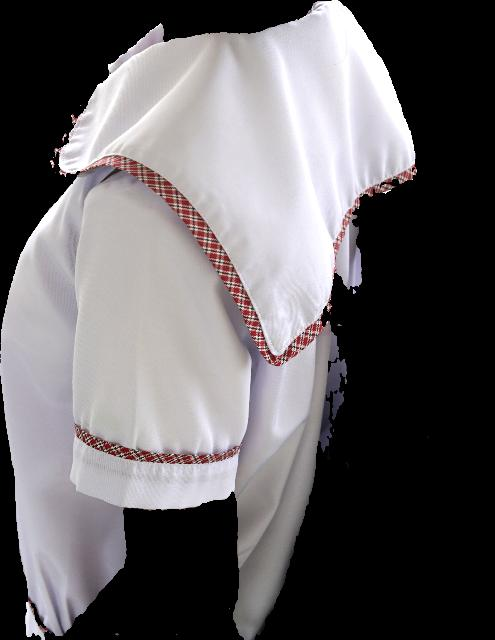pologirl: (0, 0, 417, 639)
